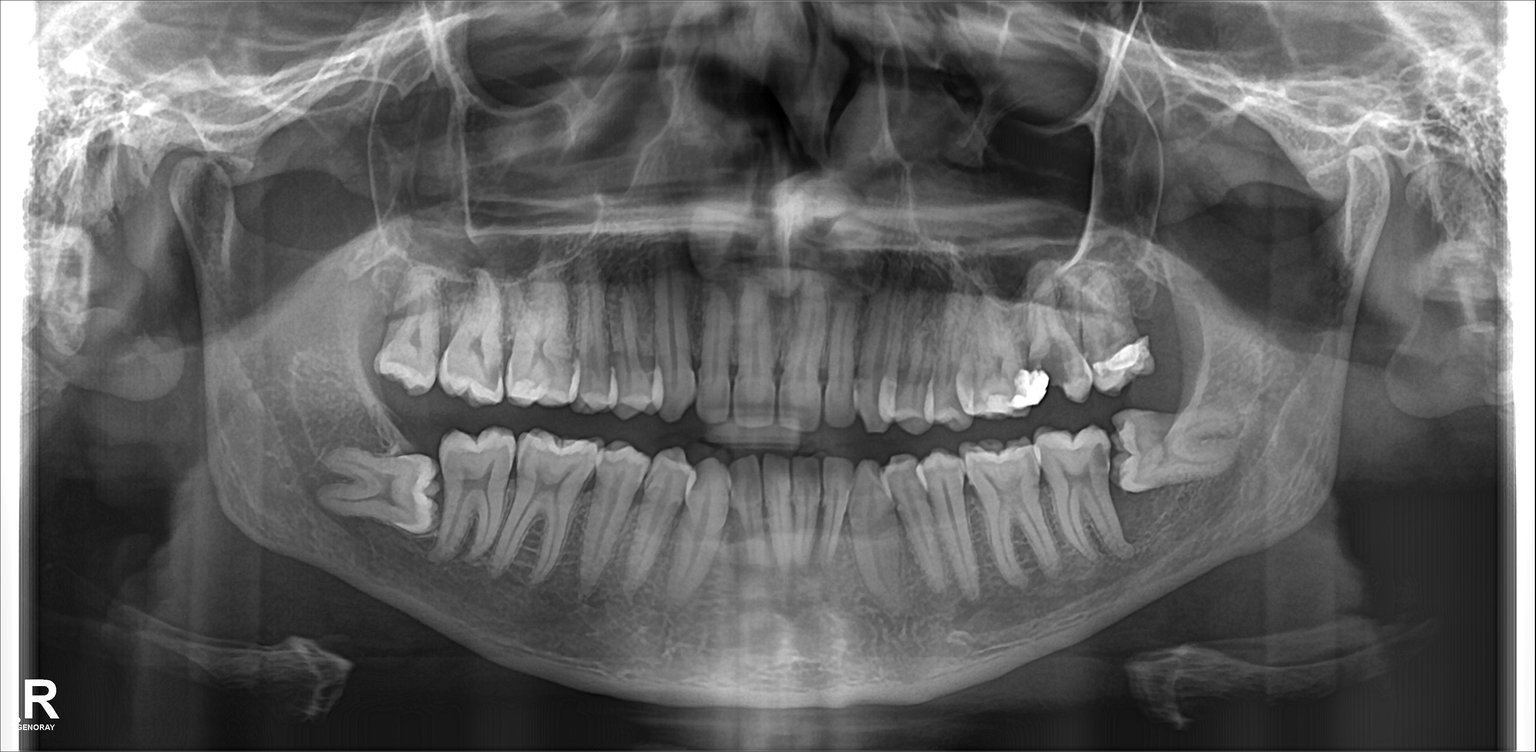Dental Caries: (1032, 339, 1071, 386)
Impacted Third Molar: (1114, 408, 1253, 489), (322, 445, 435, 532)
